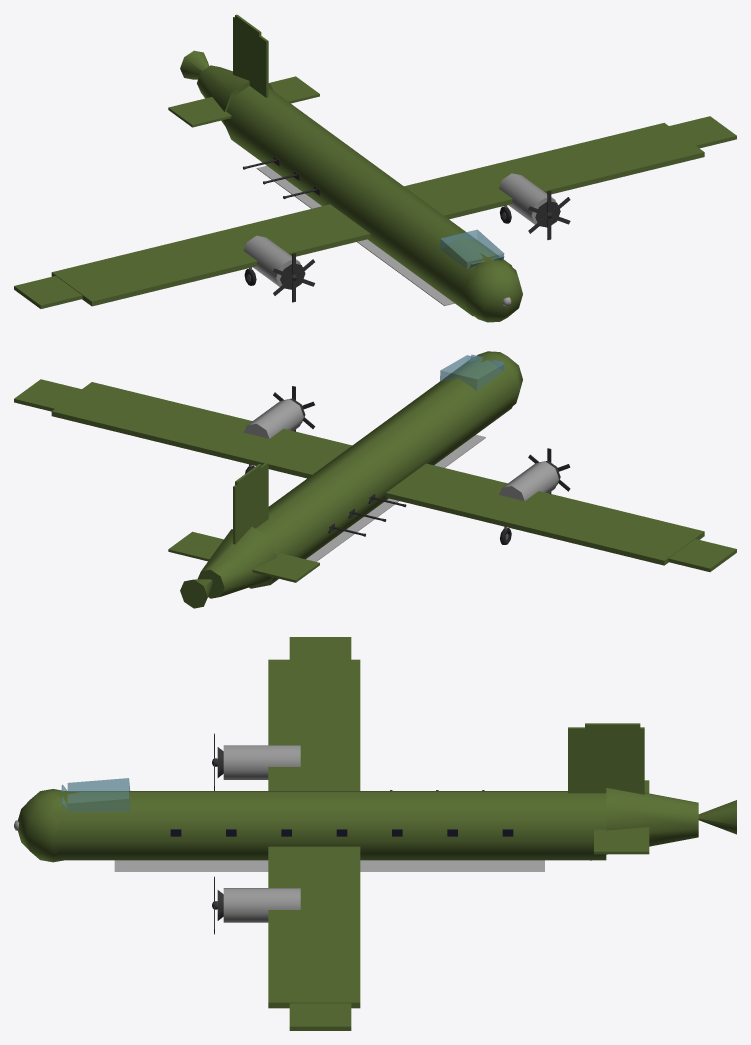
The model's file is ac47-spooky.glb.
3 views of the same model, one above another, from view 1: azimuth 30°, elevation 25°; view 2: azimuth 150°, elevation 25°; view 3: azimuth 270°, elevation 25° (orthographic). The views are drawn at different scales.
Parts seen in each view (by area): view 1: Mesh_Fuselage, Mesh_WingLeft, Mesh_WingRight, Mesh_NoseCap, Mesh_VertStab, Mesh_BellyPanel, Mesh_CockpitGreenhouse, Mesh_TailTaper, Mesh_WingTipLeft, Mesh_EngineNacelleRight, Mesh_EngineNacelleLeft, Mesh_WingTipRight (+3 smaller); view 2: Mesh_Fuselage, Mesh_WingLeft, Mesh_WingRight, Mesh_TailTaper, Mesh_VertStab, Mesh_EngineNacelleLeft, Mesh_EngineNacelleRight, Mesh_WingTipLeft, Mesh_CockpitGreenhouse, Mesh_BellyPanel, Mesh_WingTipRight, Mesh_HorizStabLeft (+3 smaller); view 3: Mesh_Fuselage, Mesh_WingRight, Mesh_WingLeft, Mesh_VertStab, Mesh_BellyPanel, Mesh_TailTaper, Mesh_NoseCap, Mesh_EngineNacelleLeft, Mesh_EngineNacelleRight, Mesh_CockpitGreenhouse, Mesh_WingTipRight, Mesh_HorizStabRight (+3 smaller).
Part boxes in pixels (box(x1,y1,x2,y2)): Mesh_Fuselage: box(223, 86, 512, 316); Mesh_WingLeft: box(51, 204, 370, 306); Mesh_WingRight: box(404, 122, 704, 219); Mesh_NoseCap: box(464, 259, 522, 322); Mesh_VertStab: box(233, 17, 268, 97); Mesh_BellyPanel: box(256, 165, 454, 305); Mesh_CockpitGreenhouse: box(440, 229, 504, 268); Mesh_TailTaper: box(197, 65, 273, 125); Mesh_WingTipLeft: box(14, 276, 82, 308); Mesh_EngineNacelleRight: box(499, 173, 556, 224); Mesh_EngineNacelleLeft: box(243, 235, 300, 286); Mesh_WingTipRight: box(669, 116, 736, 148); Mesh_Fuselage: box(249, 354, 519, 588); Mesh_WingLeft: box(386, 463, 704, 565); Mesh_WingRight: box(51, 382, 351, 478); Mesh_TailTaper: box(197, 526, 276, 598); Mesh_VertStab: box(233, 462, 268, 544); Mesh_EngineNacelleLeft: box(499, 461, 559, 501); Mesh_EngineNacelleRight: box(243, 399, 303, 438); Mesh_WingTipLeft: box(668, 539, 736, 571); Mesh_CockpitGreenhouse: box(440, 355, 504, 390); Mesh_BellyPanel: box(306, 434, 485, 561); Mesh_WingTipRight: box(14, 379, 81, 411); Mesh_HorizStabLeft: box(252, 553, 319, 582); Mesh_Fuselage: box(53, 791, 606, 860); Mesh_WingRight: box(268, 846, 360, 1008); Mesh_WingLeft: box(268, 659, 360, 790); Mesh_VertStab: box(568, 727, 644, 794); Mesh_BellyPanel: box(114, 860, 544, 871); Mesh_TailTaper: box(606, 788, 698, 854); Mesh_NoseCap: box(17, 789, 66, 862); Mesh_EngineNacelleLeft: box(223, 745, 300, 779); Mesh_EngineNacelleRight: box(223, 888, 300, 922); Mesh_CockpitGreenhouse: box(67, 778, 130, 811); Mesh_WingTipRight: box(289, 1003, 351, 1030); Mesh_HorizStabRight: box(594, 827, 649, 854).
Size of the model in its own units: 30 by 5.6 by 23.52.
